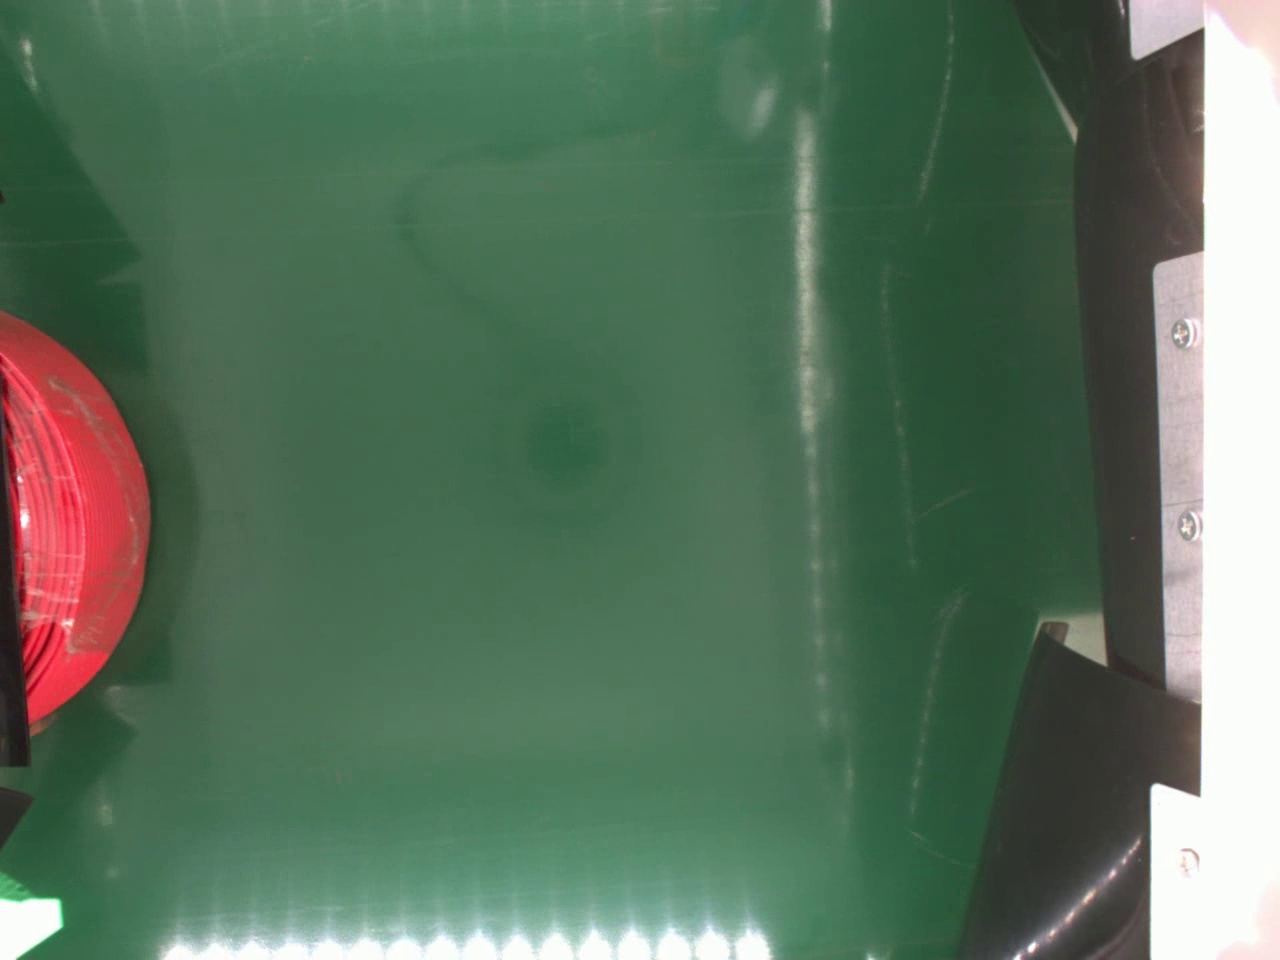red: (0, 308, 152, 723)
